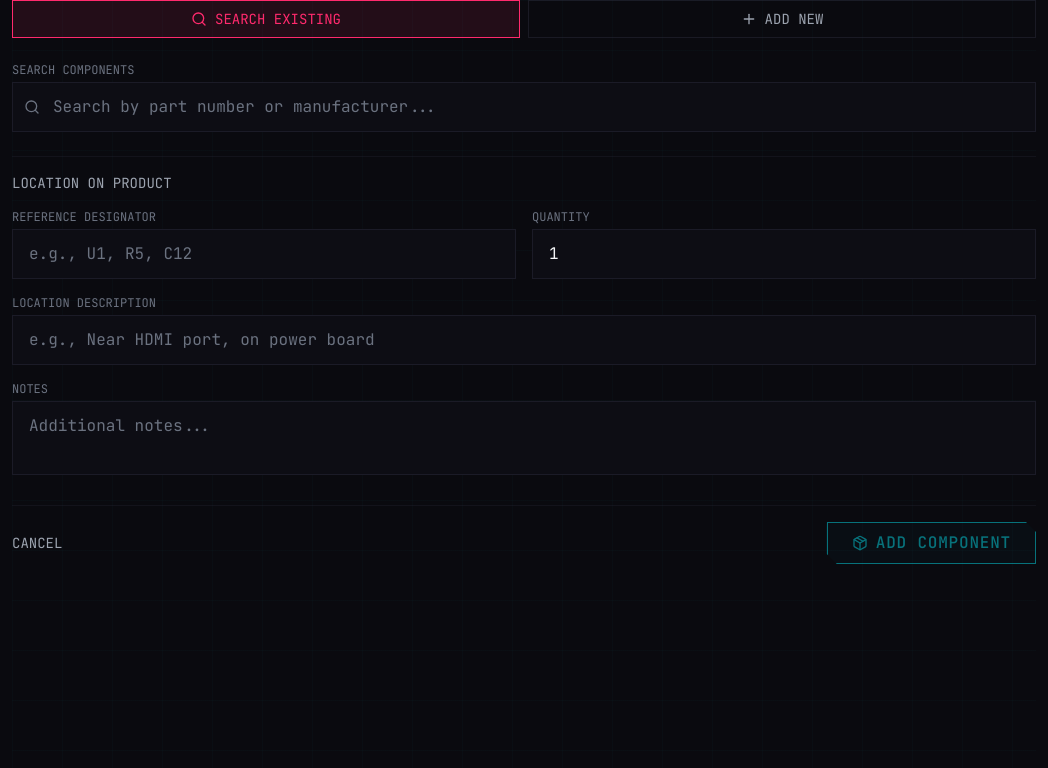
it: AddComponentForm › new component mode › enables submit when required fields are filled
Note: Switch to new mode
Click the button "ADD NEW": click(782, 19) [528,0,1036,38]
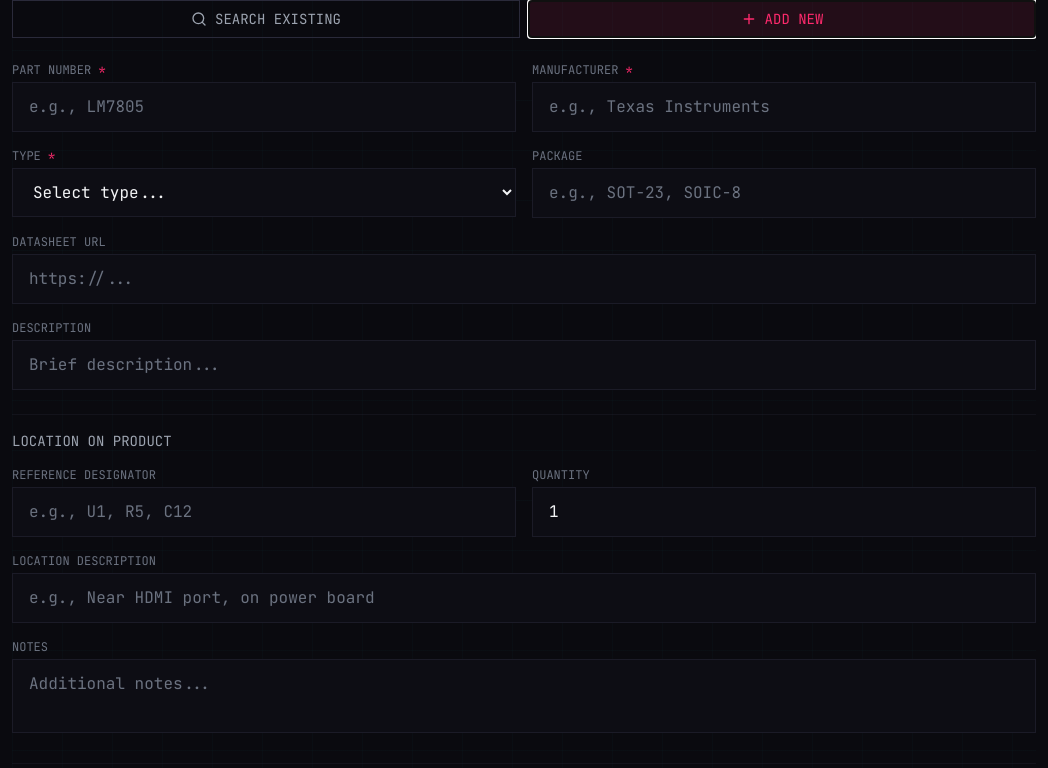
Note: Fill required fields
In the field with placeholder "e.g., LM7805": (264, 107) [12,82,516,132], type "NEW-PART"
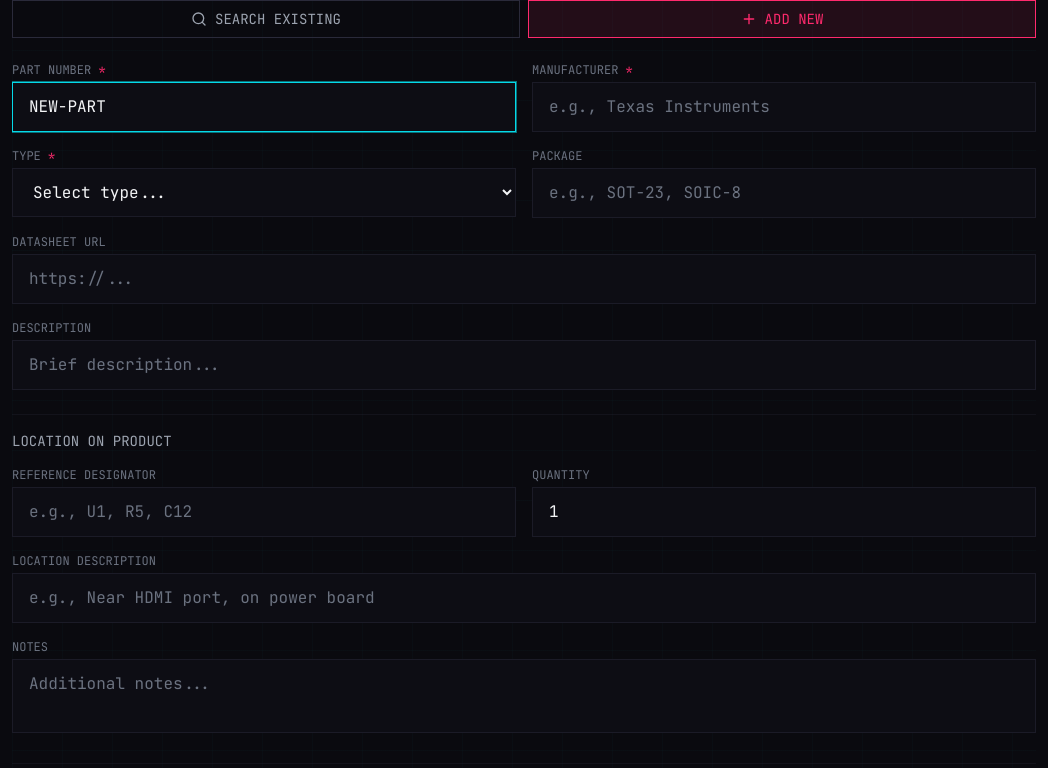
In the field with placeholder "e.g., Texas Instruments": (784, 107) [532,82,1036,132], type "New Mfr"
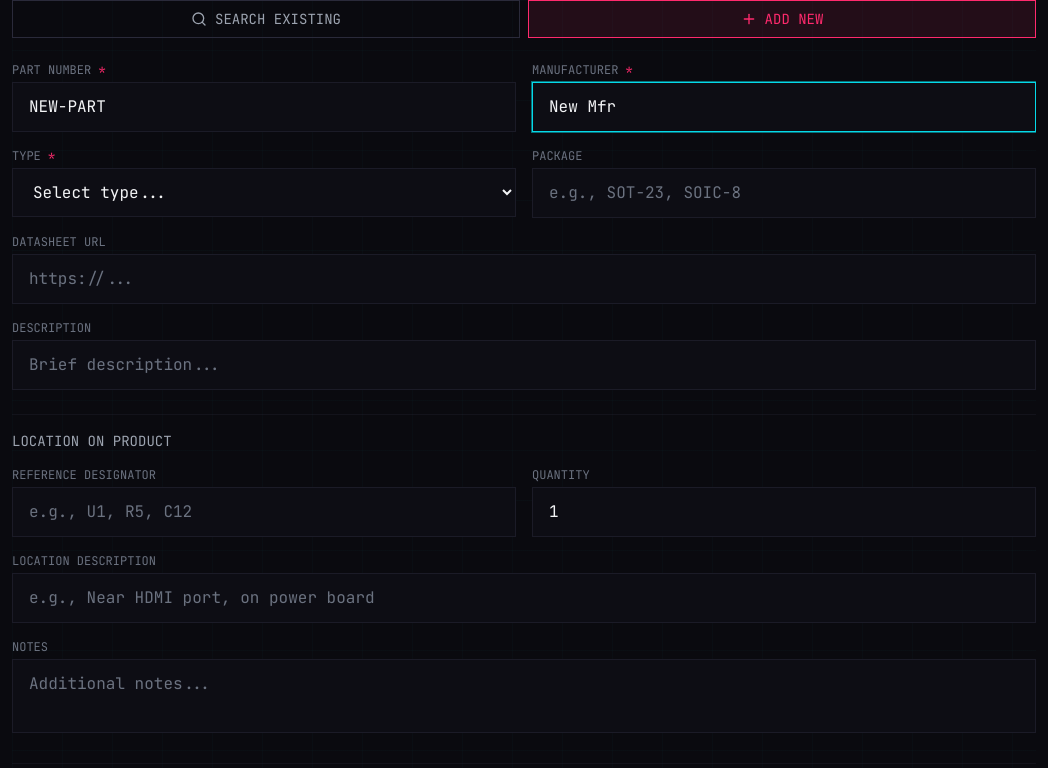
Note: Select component type
Select "Integrated Circuit" in the dropdown: (264, 192) [12,168,516,217]
(page scrolled)
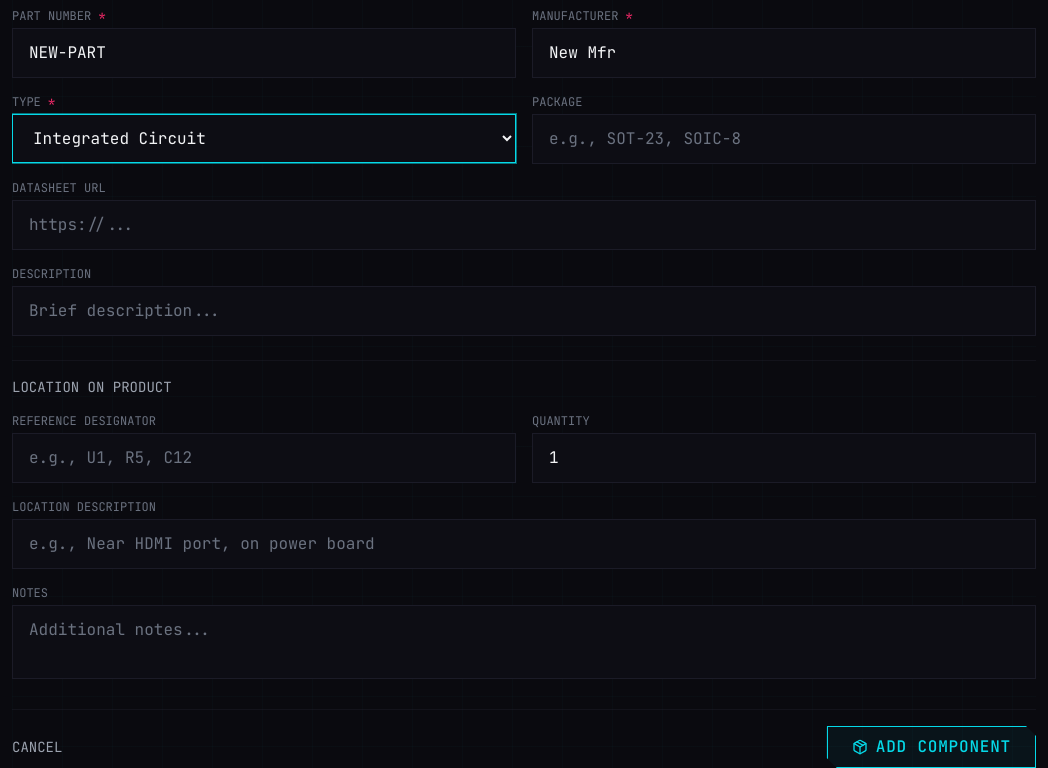
Now the button "ADD COMPONENT" is enabled, box [827,726,1036,767]
